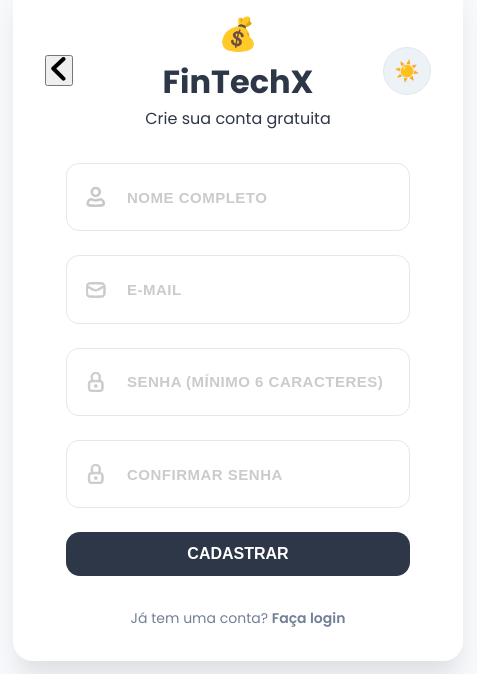
Test: Register Page › should show error when password is too short
Type "Test User" into the field with test id "input-name".
click(238, 197); type("Test User")  # box [66,163,410,231]
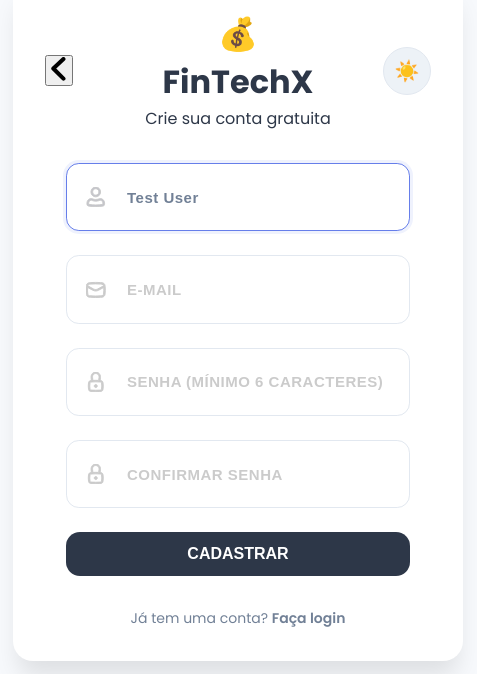
Type "test@example.com" into the field with test id "input-email".
click(238, 289); type("test@example.com")  # box [66,255,410,323]
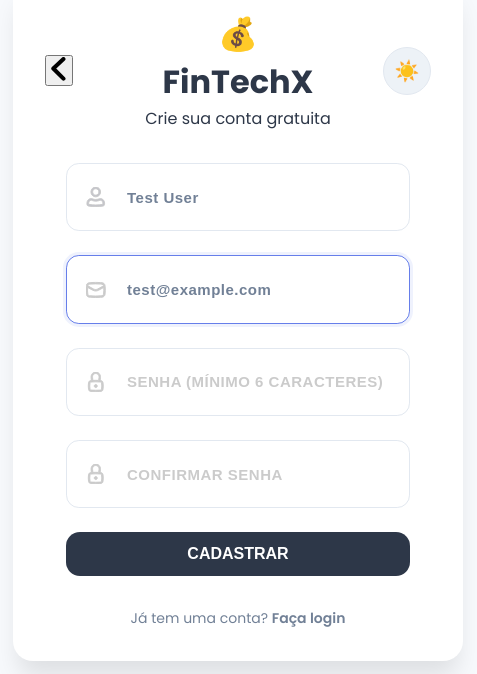
Type "123" into the password field with test id "input-password".
click(238, 382); type("123")  # box [66,348,410,416]
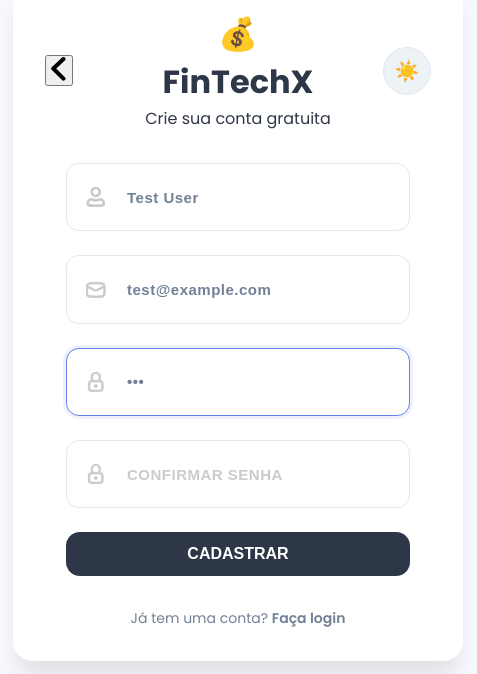
Type "123" into the password field with test id "input-confirmPassword".
click(238, 474); type("123")  # box [66,440,410,508]
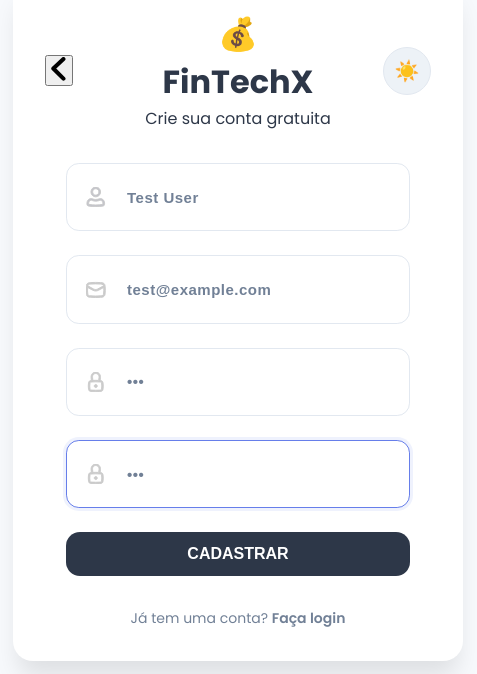
Click the button "Cadastrar".
click(238, 554)  # box [66,532,410,576]
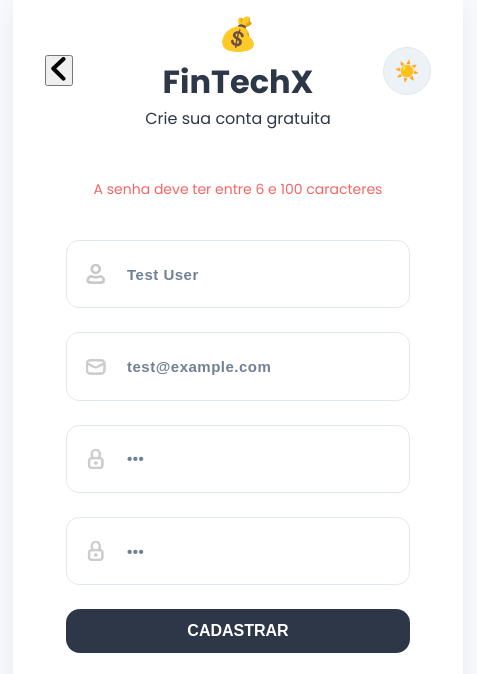
Expected: the text "A senha deve ter entre 6 e 100 caracteres" is shown, [94,179,382,199]
